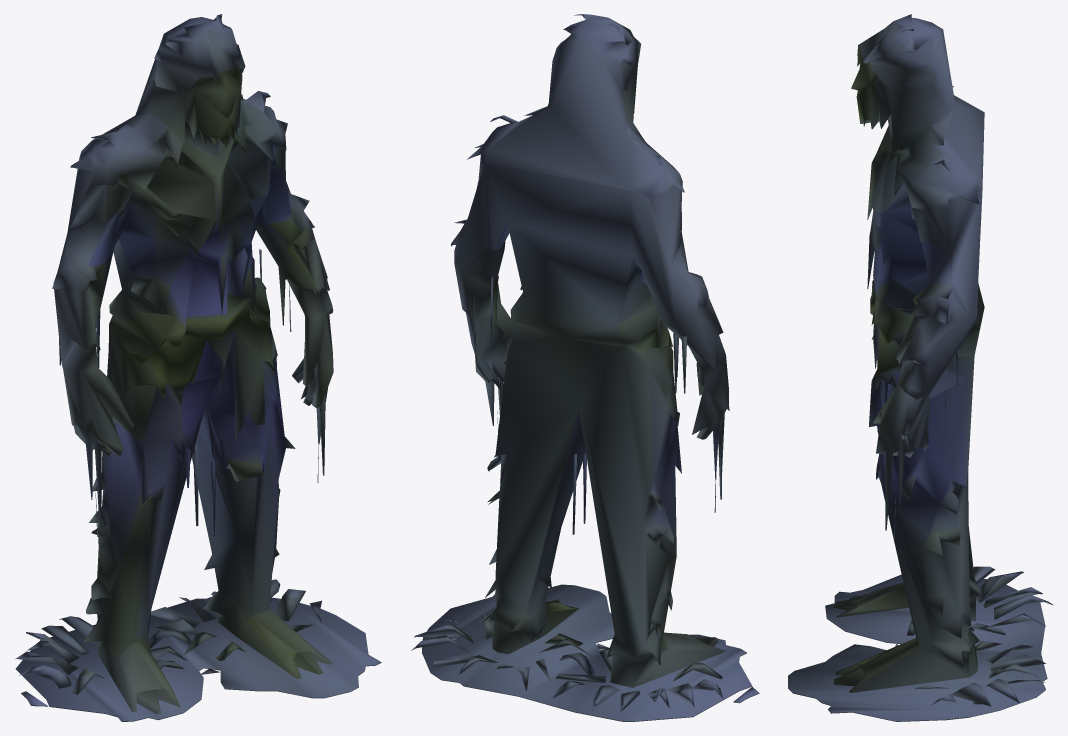
File: model.progressive.glb
The picture shows the model from 3 angles, left to right: view 1: azimuth 30°, elevation 25°; view 2: azimuth 150°, elevation 25°; view 3: azimuth 270°, elevation 25°; orthographic projection. The views are drawn at different scales.
Parts seen in each view (by area): view 1: material; view 2: material; view 3: material.
Part boxes in pixels (x1,y1,x2,y2): material: [15, 14, 381, 721]; material: [411, 14, 759, 721]; material: [788, 14, 1053, 721].
Size of the model in its own units: 0.9959 by 1.9 by 0.7265.
Materials: 1 (1 with a texture image).
